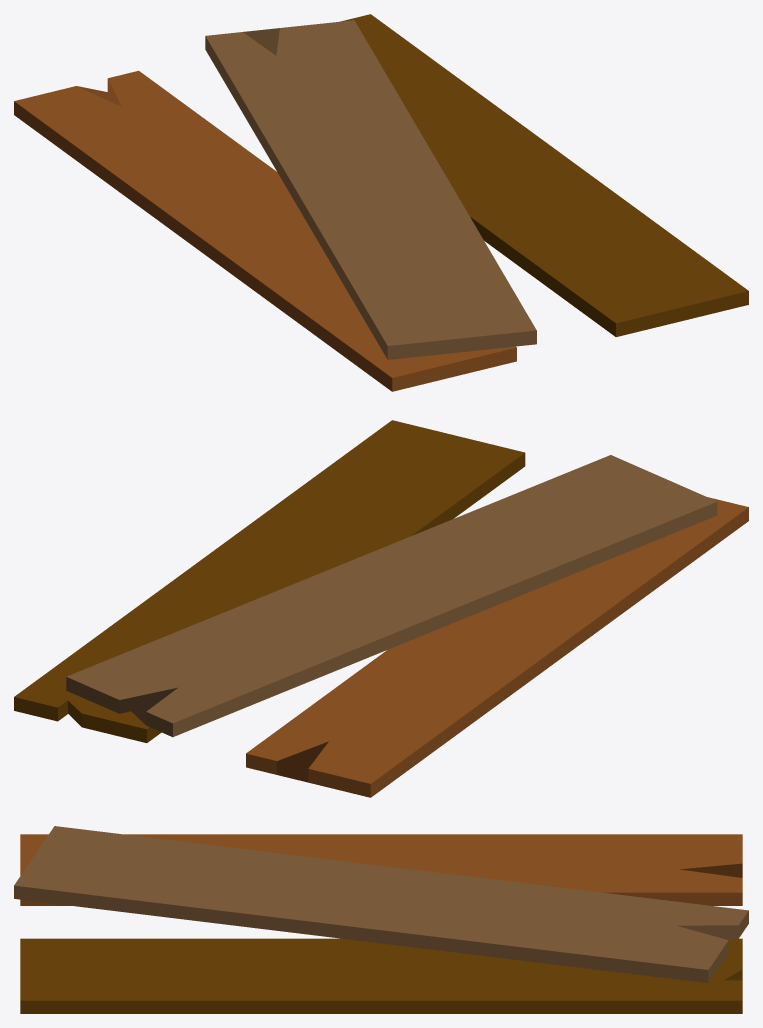
The model's file is wooden path.fbx.
3 views of the same model, one above another, from view 1: azimuth 30°, elevation 25°; view 2: azimuth 150°, elevation 25°; view 3: azimuth 270°, elevation 25° (orthographic). The views are drawn at different scales.
Parts seen in each view (by area): view 1: Cube; view 2: Cube; view 3: Cube.
Boxes of the visible parts, x1,y1,x2,y2 form: Cube: (14,14,748,391); Cube: (14,420,748,797); Cube: (14,826,748,1013).
Bounding box in the file's own units: 481 × 37.75 × 899.
